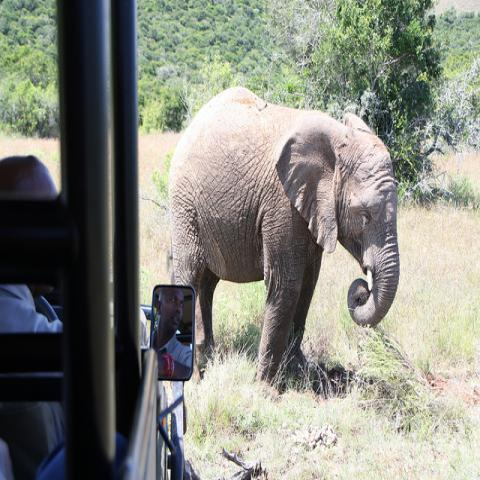truck: (0, 0, 197, 479)
